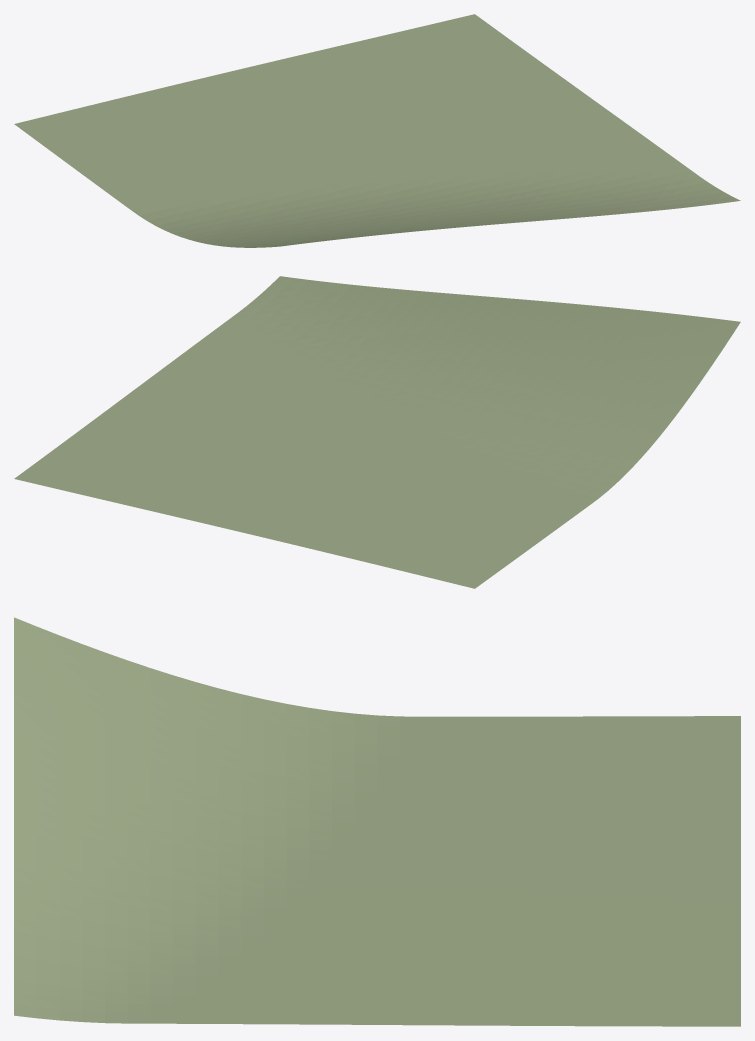
Rendered from desert-27-17.glb.
3 renders of one model, top to bottom at view 1: azimuth 30°, elevation 25°; view 2: azimuth 150°, elevation 25°; view 3: azimuth 270°, elevation 25°, orthographic. The views are drawn at different scales.
Parts seen in each view (by area): view 1: desert-27-17; view 2: desert-27-17; view 3: desert-27-17.
Boxes of the visible parts, left/top/right/bottom form: desert-27-17: left=14, top=14, right=740, bottom=247; desert-27-17: left=14, top=276, right=740, bottom=588; desert-27-17: left=14, top=617, right=740, bottom=1026.
Bounding box in the file's own units: 512 × 79.33 × 512.
